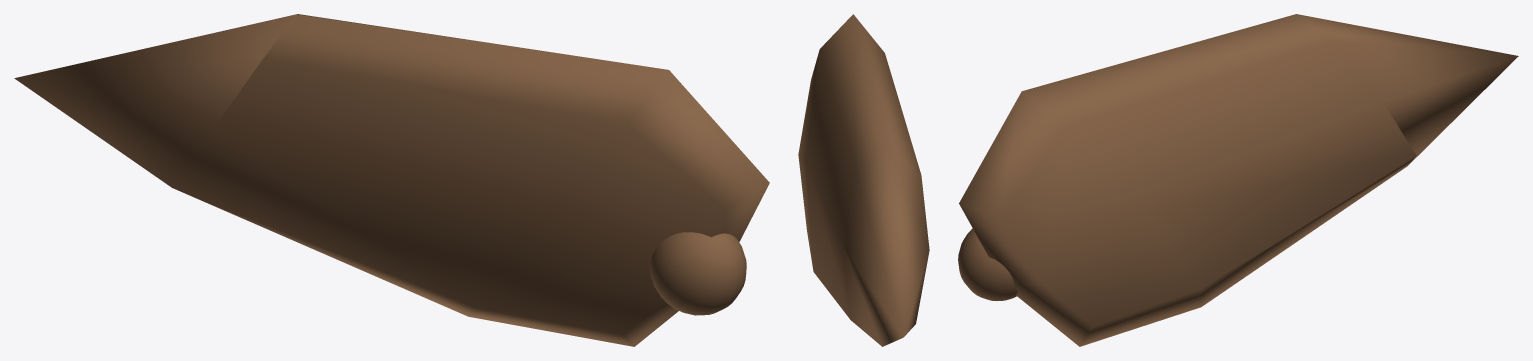
File: Left wing.fbx
3 views of the same model, side by side, from view 1: azimuth 30°, elevation 25°; view 2: azimuth 150°, elevation 25°; view 3: azimuth 270°, elevation 25° (orthographic). The views are drawn at different scales.
Visible parts, largest first — view 1: polySurface47; view 2: polySurface47; view 3: polySurface47.
Boxes of the visible parts, x1,y1,x2,y2 form: polySurface47: (14,14,769,346); polySurface47: (798,14,929,346); polySurface47: (958,14,1518,346).
Bounding box in the file's own units: 1.01 × 0.6784 × 1.35.
